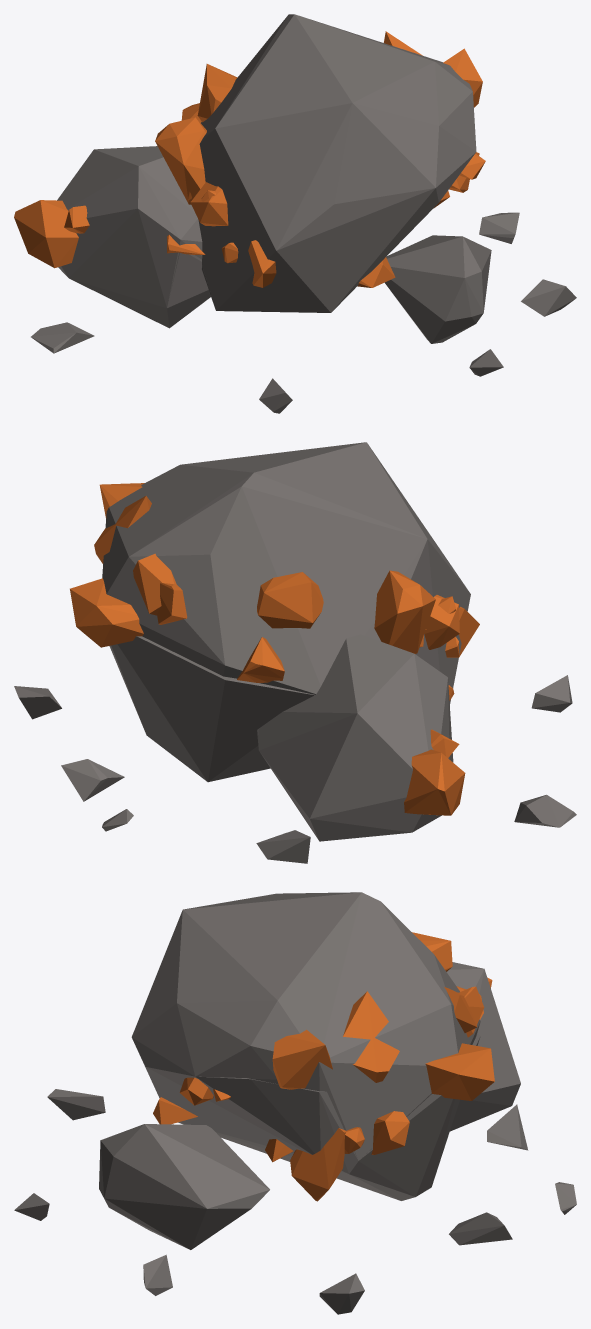
The model's file is Resource_IronVein.fbx.
3 views of the same model, one above another, from view 1: azimuth 30°, elevation 25°; view 2: azimuth 150°, elevation 25°; view 3: azimuth 270°, elevation 25° (orthographic). The views are drawn at different scales.
Parts seen in each view (by area): view 1: Available, Depleted; view 2: Available, Depleted; view 3: Available, Depleted.
Boxes of the visible parts, <box> form: Available: <box>14,14,491,343</box>; Depleted: <box>31,155,576,413</box>; Available: <box>70,442,479,841</box>; Depleted: <box>14,636,576,863</box>; Available: <box>99,892,520,1249</box>; Depleted: <box>14,1034,576,1314</box>.
Size of the model in its own units: 1.87 by 1.66 by 1.
